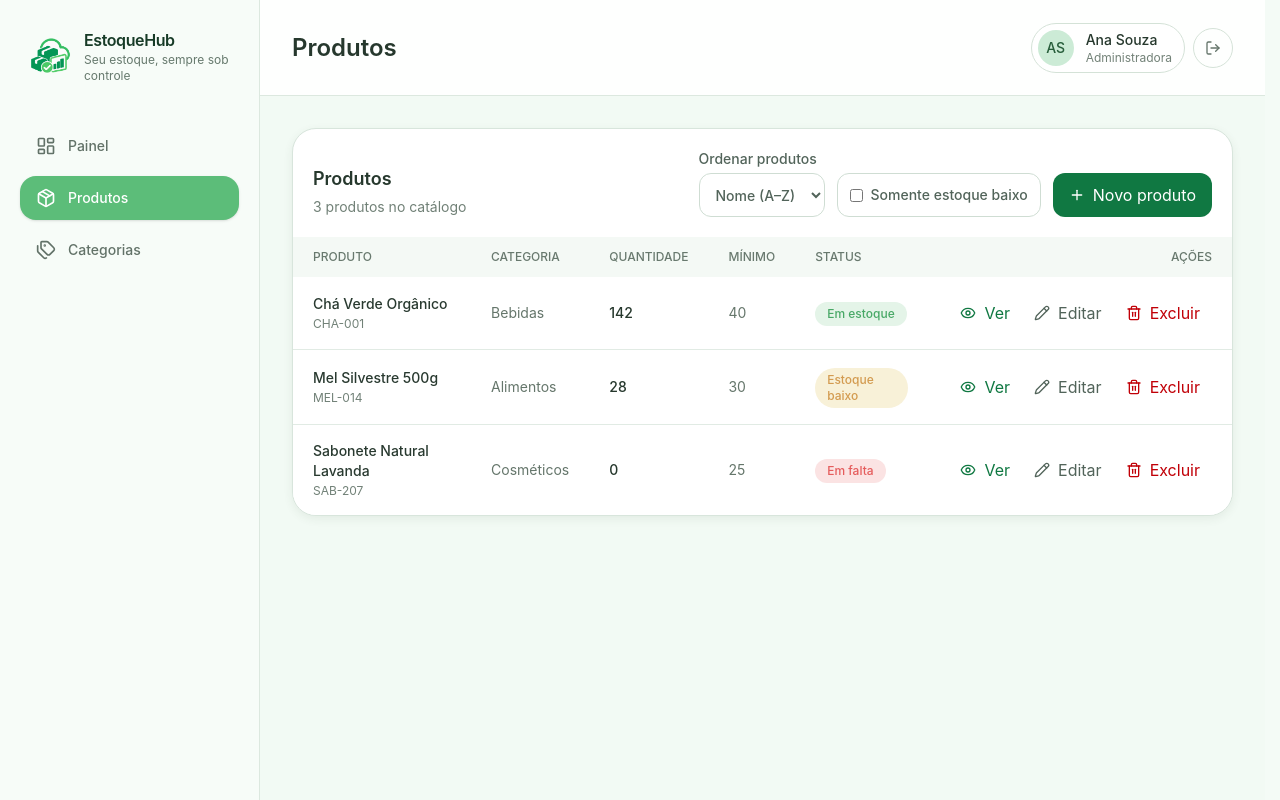
Test: ProductsPage › allows an admin to delete a product after confirmation
Click the button with aria-label "excluir chá verde orgânico".
click(1163, 313)  # box [1114,293,1212,333]
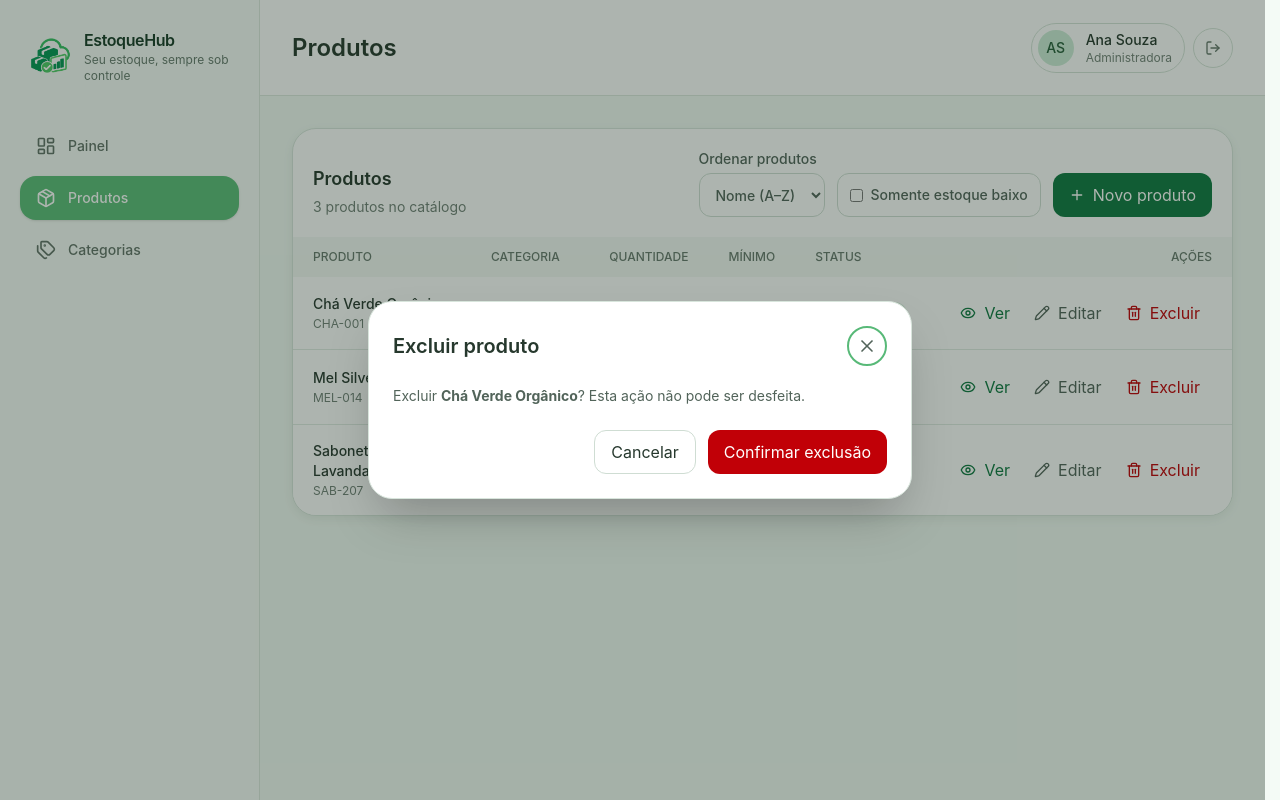
Click the button "Confirmar exclusão".
click(797, 452)  # box [708,430,887,474]
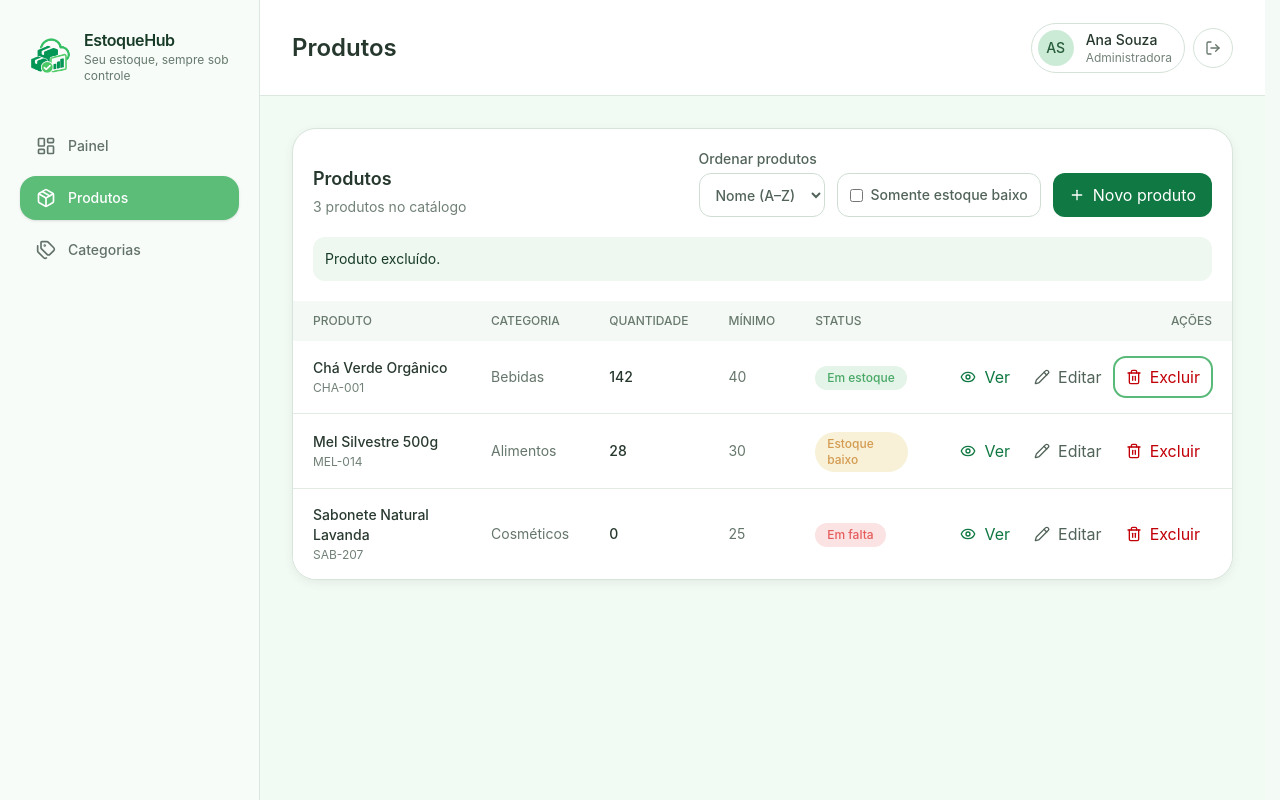
Check: the text "Produto excluído." is shown, box [313,237,1212,281]
